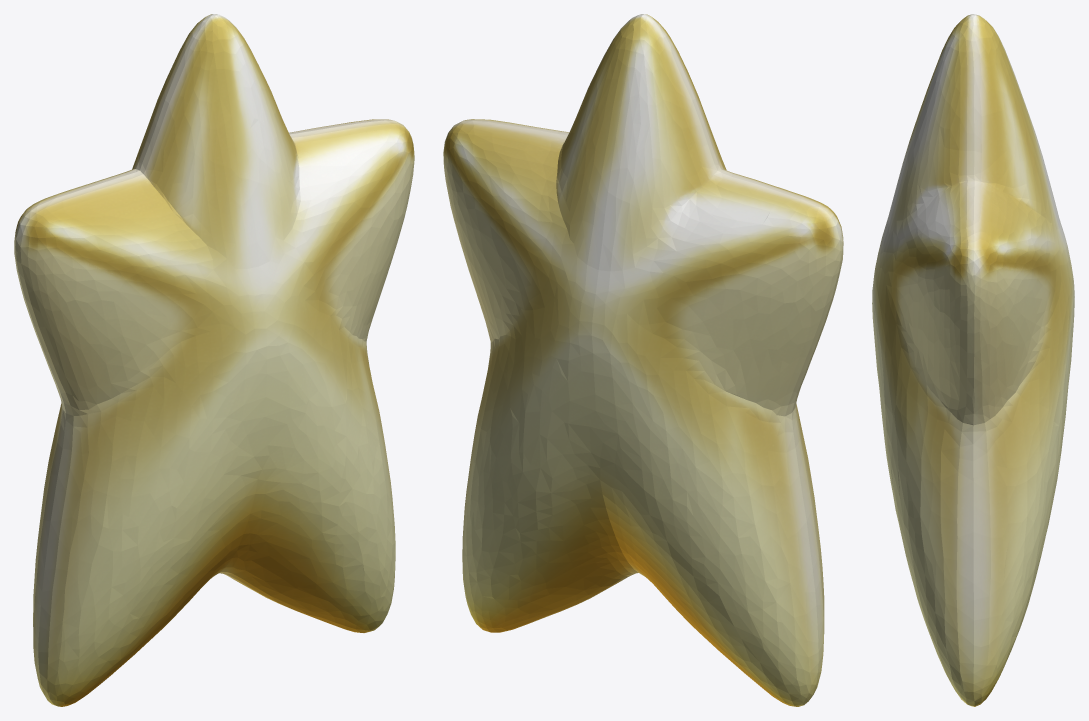
File: star.glb
The picture shows the model from 3 angles, left to right: view 1: azimuth 30°, elevation 25°; view 2: azimuth 150°, elevation 25°; view 3: azimuth 270°, elevation 25°; orthographic projection. The views are drawn at different scales.
Visible parts, largest first — view 1: world; view 2: world; view 3: world.
Part boxes in pixels (x1,y1,x2,y2): world: [14, 14, 414, 706]; world: [443, 14, 843, 706]; world: [872, 14, 1074, 706].
Size of the model in its own units: 0.6276 by 0.9918 by 0.2939.
Materials: 1 (1 with a texture image).
